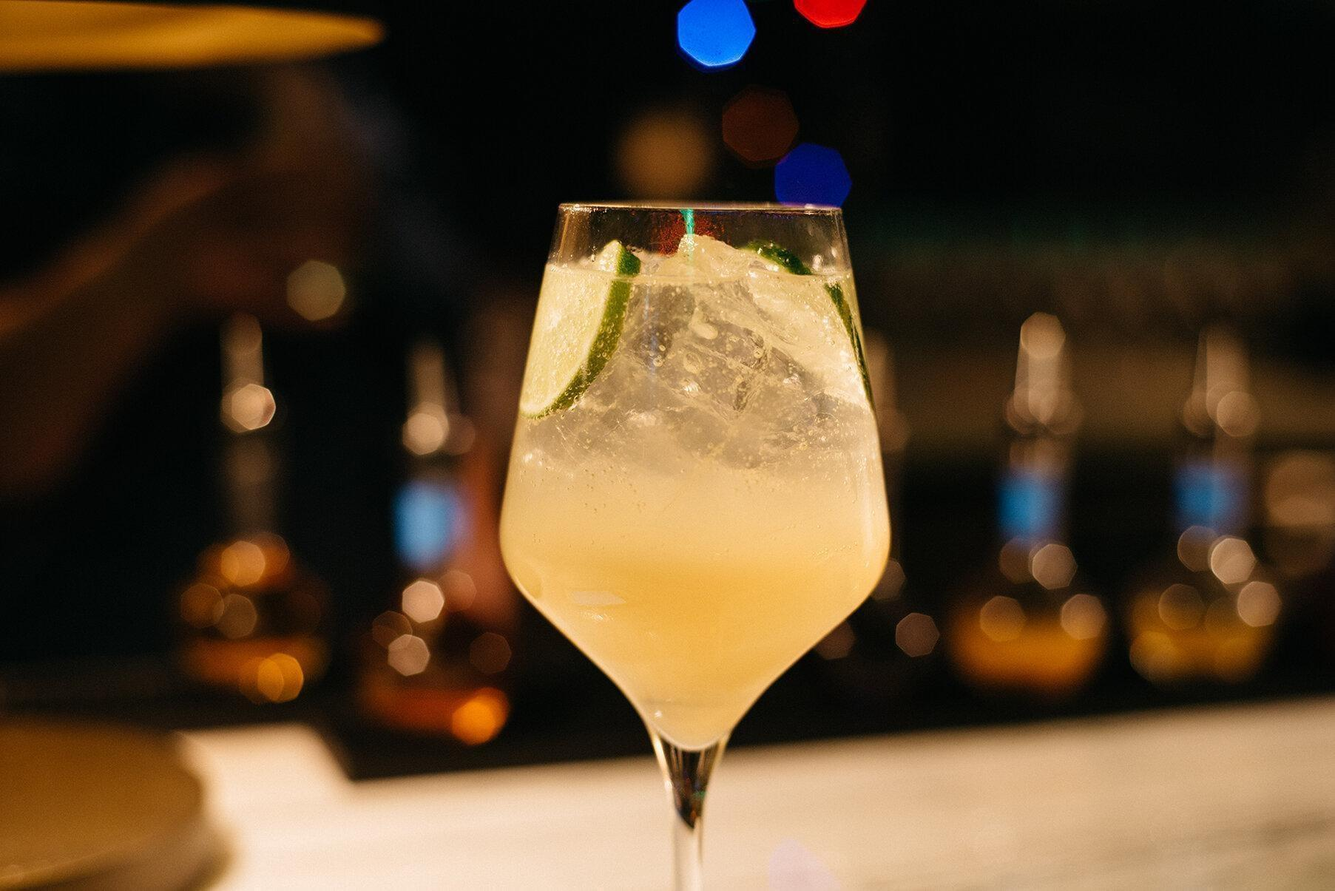glass-wine: (493, 197, 893, 889)
